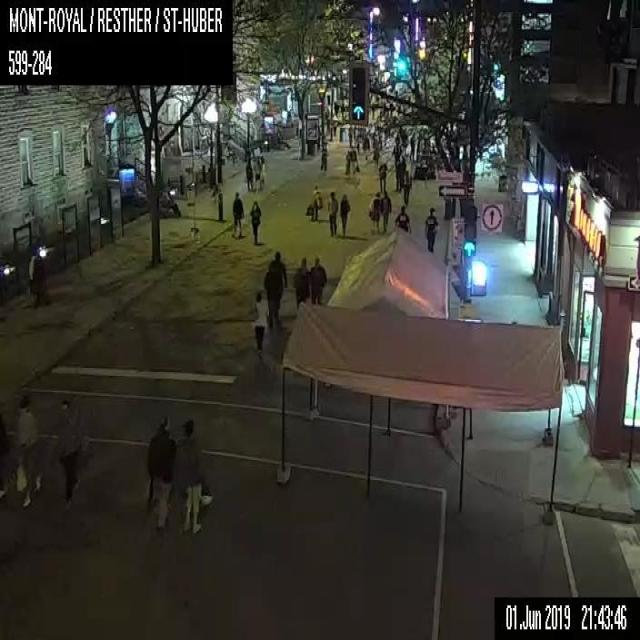pedestrian: (177, 417, 212, 532), (146, 414, 178, 533), (56, 398, 88, 507), (14, 394, 44, 506), (263, 261, 282, 330), (26, 250, 47, 306), (267, 249, 287, 301), (252, 288, 268, 352), (0, 409, 10, 496), (293, 256, 309, 308), (309, 255, 326, 302), (424, 206, 438, 252), (306, 184, 322, 221), (249, 199, 261, 243), (368, 190, 380, 232), (232, 191, 243, 236), (394, 204, 411, 233), (327, 191, 338, 235), (338, 192, 349, 235), (380, 192, 391, 234), (401, 168, 412, 204), (377, 159, 388, 193), (349, 146, 359, 176), (276, 127, 290, 148), (245, 156, 253, 190), (252, 158, 260, 192), (259, 154, 265, 191), (319, 143, 326, 170), (344, 149, 349, 174)
